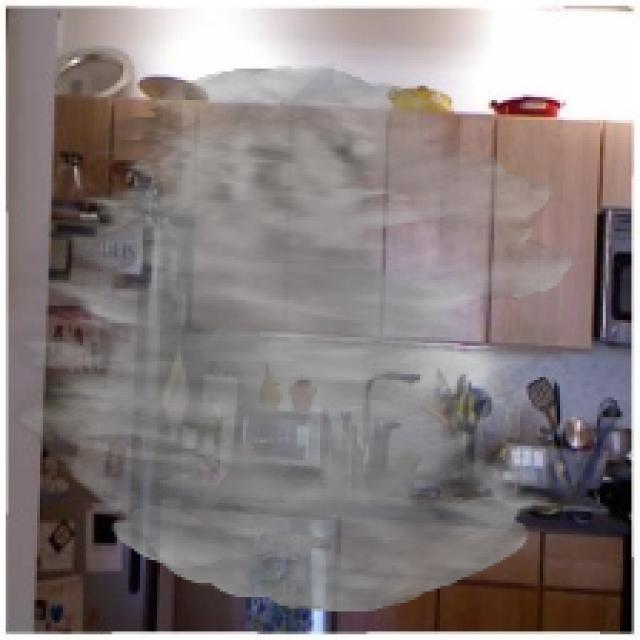Smoke: (8, 66, 574, 612)
